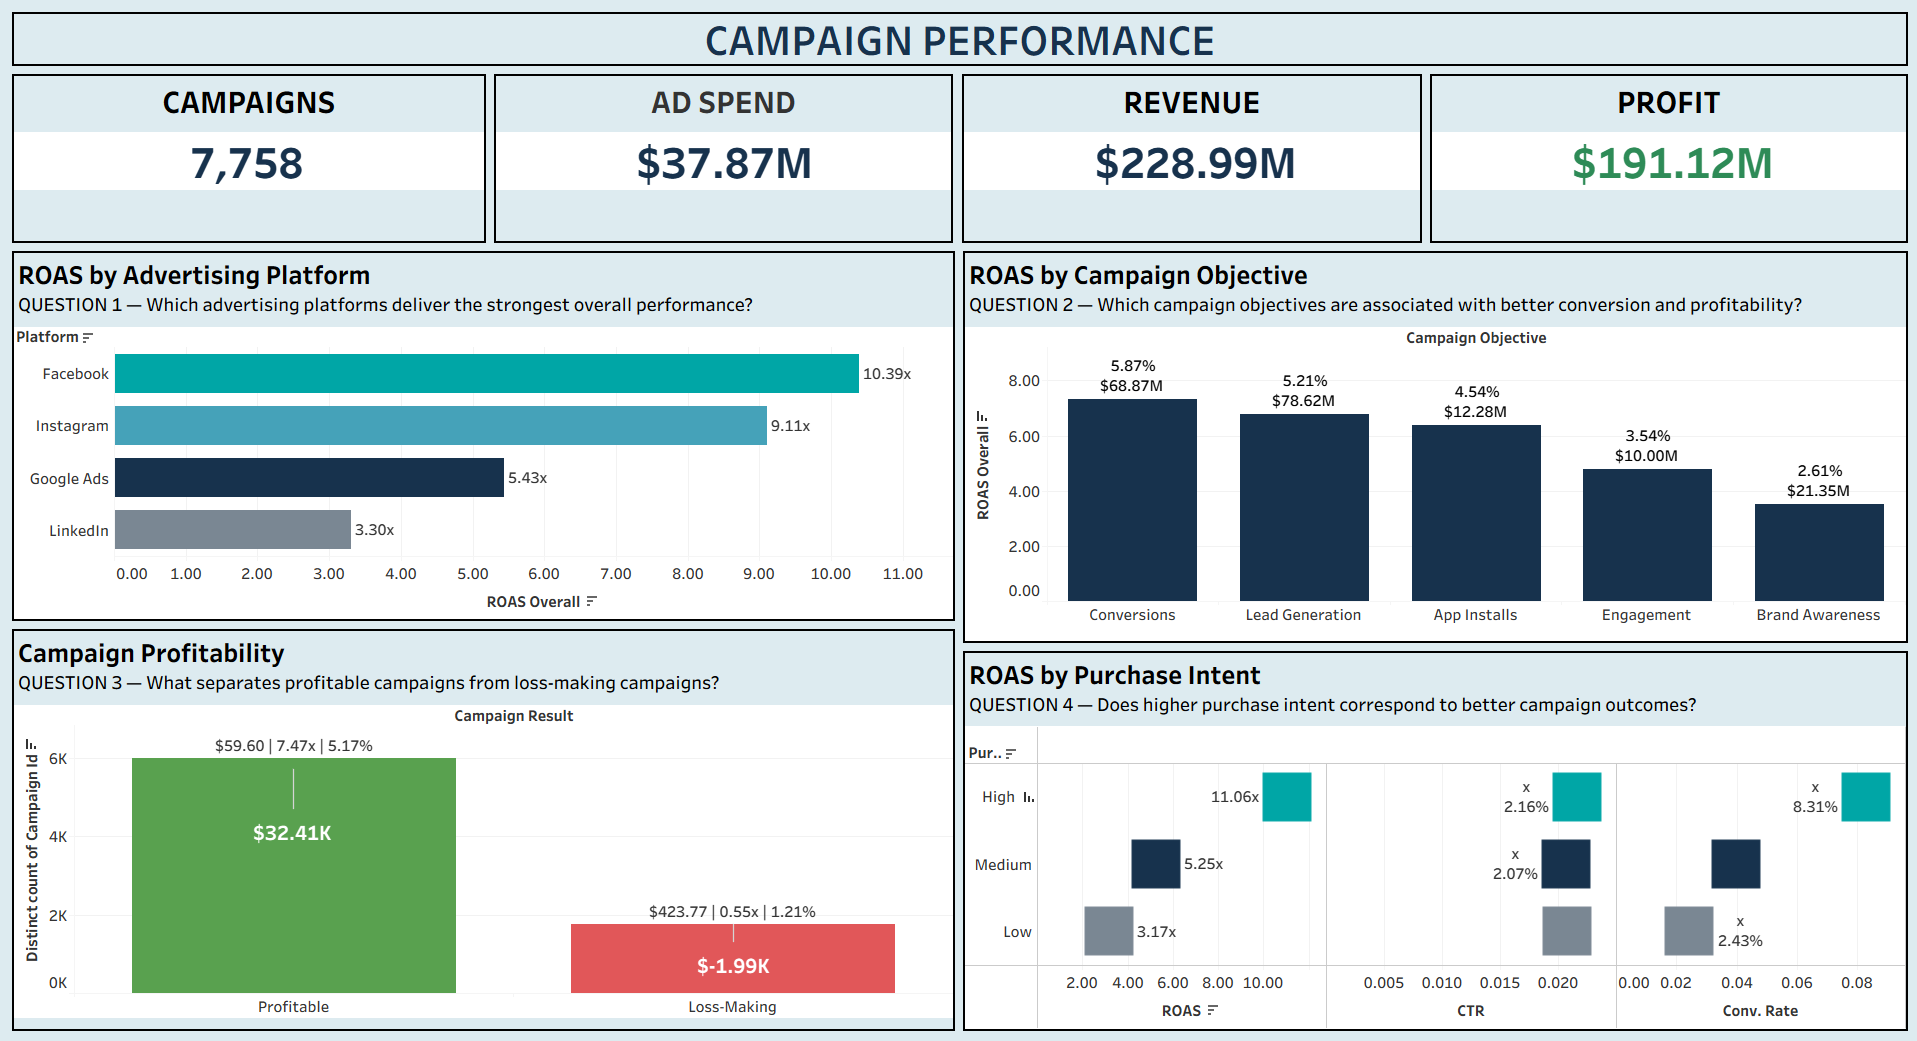

What the dashboard file says about the page in this screenshot:
{"tool":"tableau","page":{"name":"CAMPAIGN PERFORMANCE","canvas":[1000,1000],"units":"permille","ordinal":0},"visuals":[{"type":"title","box":[4.8,9.4,990.3,72.9]},{"type":"worksheet","title":"KPI 1 - Total Campaigns","mark":"Automatic","box":[4.8,82.2,250.9,166.5]},{"type":"worksheet","title":"KPI 2 - Total Ad Spend","mark":"Automatic","box":[255.8,82.2,243,166.5]},{"type":"worksheet","title":"KPI 3 — Total Revenue","mark":"Automatic","box":[498.8,82.2,243.5,166.5]},{"type":"worksheet","title":"KPI 4 — Total Profit","mark":"Automatic","box":[742.3,82.2,252.9,166.5]},{"type":"worksheet","title":"ROAS_by_Platform","mark":"Automatic","rows":["platform"],"cols":["Calculation_1419794721968128"],"box":[4.8,248.7,494.6,356.1]},{"type":"worksheet","title":"ROAS_by_Objective","mark":"Automatic","rows":["Calculation_1419794721968128"],"cols":["campaign_objective"],"box":[499.4,248.7,495.7,376.9]},{"type":"worksheet","title":"Campaign_Profitability","mark":"Automatic","rows":["campaign_id"],"cols":["Calculation_1419794735505412"],"box":[4.8,604.8,494.6,385.8]},{"type":"worksheet","title":"ROAS_by_Purchase_Intent","mark":"Shape","rows":["purchase_intent_score"],"cols":["Calculation_1419794721968128","Calculation_1419794776834053","Calculation_1419794729402371"],"box":[499.4,625.6,495.7,365]}]}

Visuals, with their boxes on the dashboard's canvas, which has no fixed pixel size, in thousandths of its width and height (x1, y1, x2, y2). These are canvas units, not pixel positions in the 1917x1041 screenshot, which may show the page scaled, cropped or inside an application window:
title: detection(5, 9, 995, 82)
"KPI 1 - Total Campaigns" worksheet: detection(5, 82, 256, 249)
"KPI 2 - Total Ad Spend" worksheet: detection(256, 82, 499, 249)
"KPI 3 — Total Revenue" worksheet: detection(499, 82, 742, 249)
"KPI 4 — Total Profit" worksheet: detection(742, 82, 995, 249)
"ROAS_by_Platform" worksheet: detection(5, 249, 499, 605)
"ROAS_by_Objective" worksheet: detection(499, 249, 995, 626)
"Campaign_Profitability" worksheet: detection(5, 605, 499, 991)
"ROAS_by_Purchase_Intent" worksheet (Shape marks): detection(499, 626, 995, 991)
